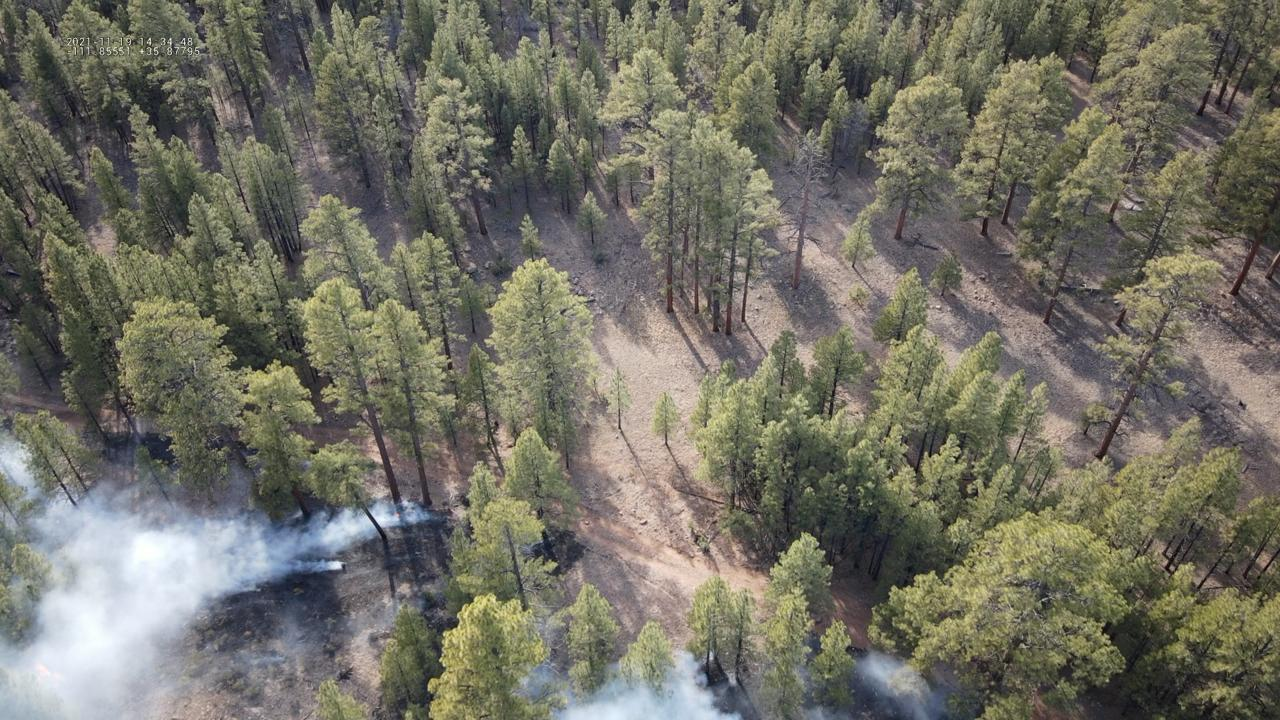fire: (395, 512, 400, 517)
smoke: (0, 437, 438, 720), (510, 648, 749, 720), (792, 648, 975, 720)
